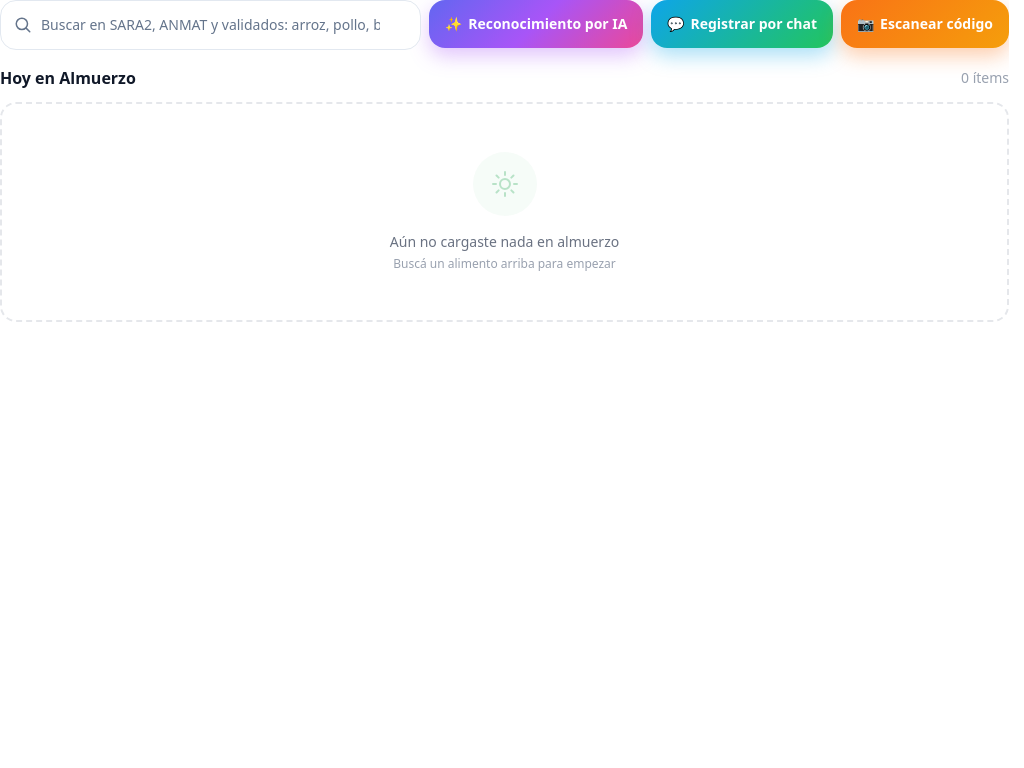
Scenario: Buscador: alimentos VALIDADO (NUT-194) › un deportista elige un VALIDADO (sin macros en el payload) y el selector de cantidad sigue funcionando, sin vista previa
This screenshot has width=1024, height=768.
Step 1. Type "arroz" into the field → (211, 25), box [0,0,421,50]
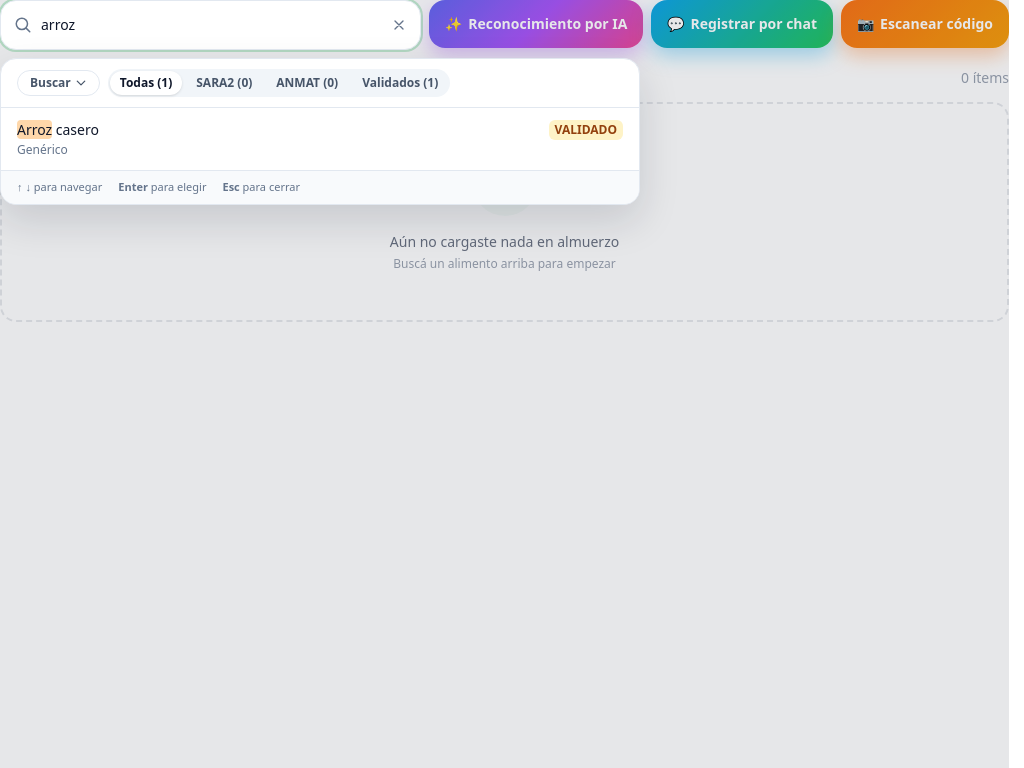
Step 2. Click the element showing "Arroz casero" → (58, 130), box [17,120,99,139]
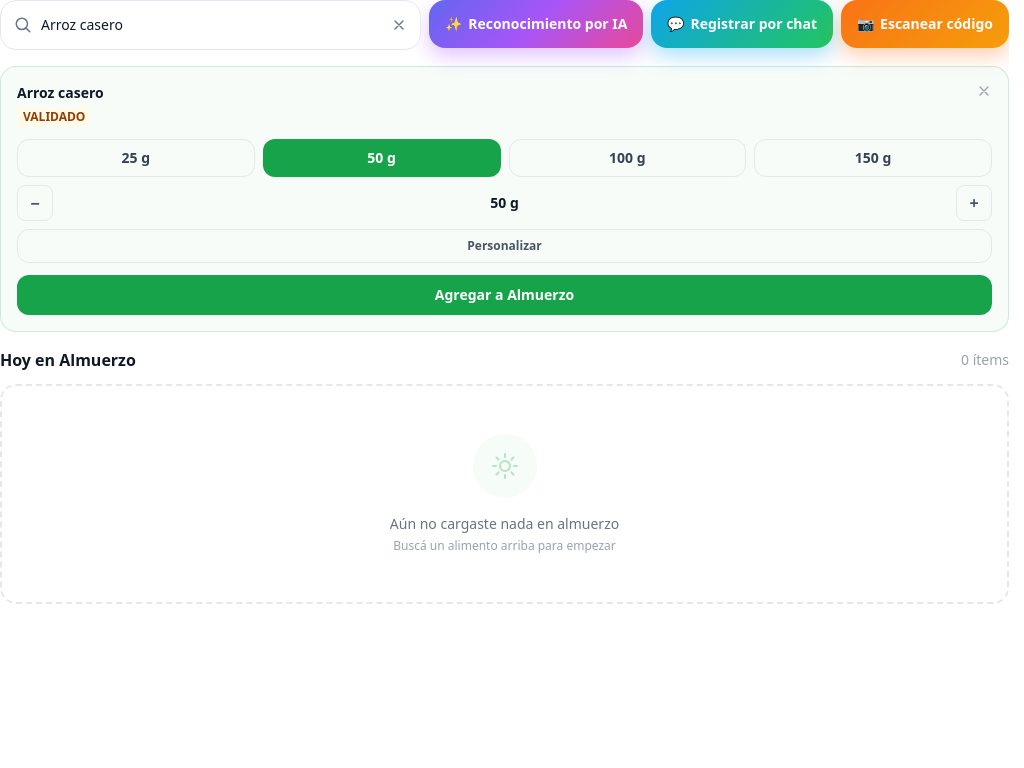
expect the button named "Sumar 10 gramos" is shown: met, box [956,185,992,221]
Step 3. Click the button "100 g" → (627, 158), box [508,139,746,177]
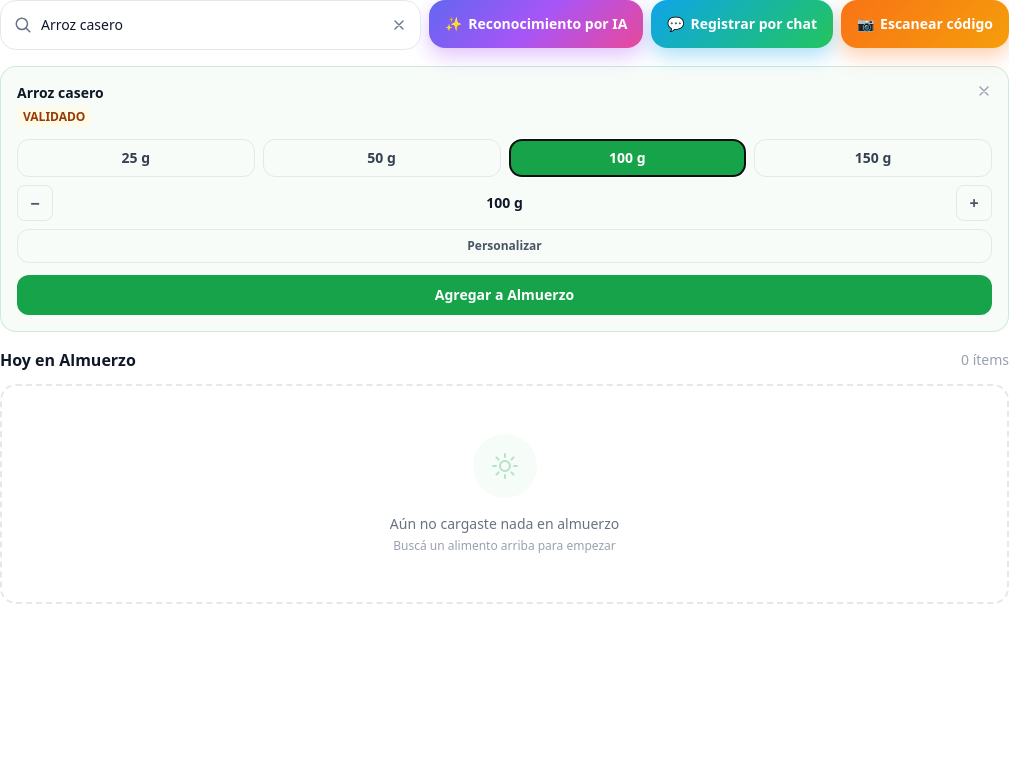
Step 4. Click the button named "Sumar 10 gramos" → (974, 203), box [956,185,992,221]
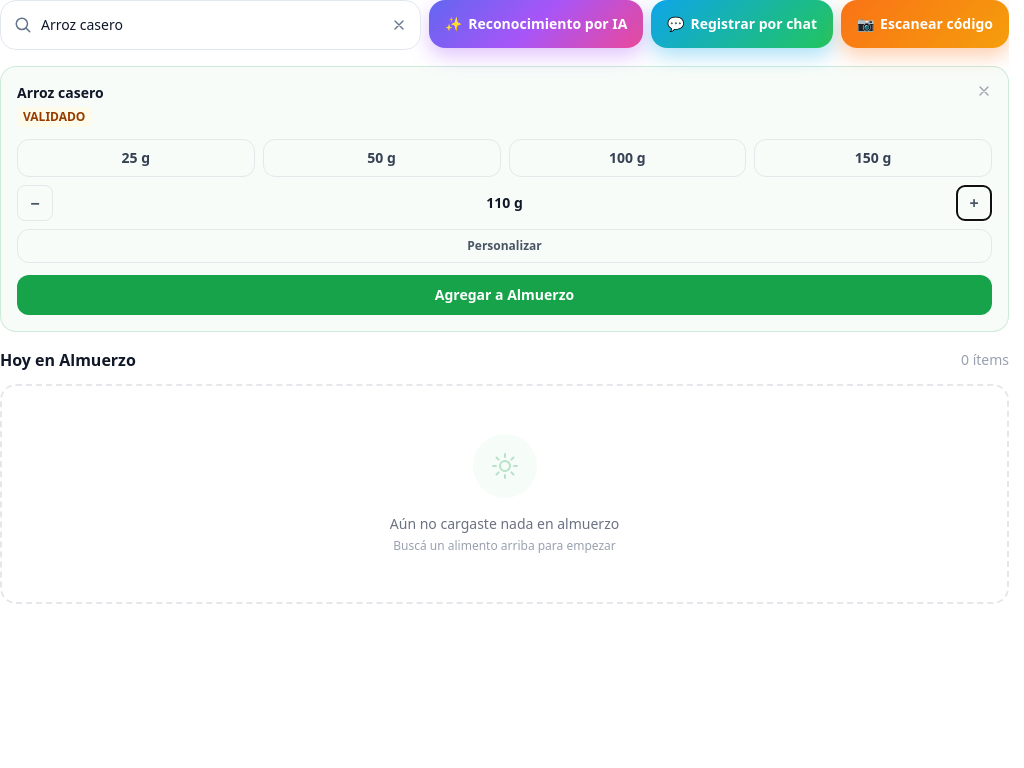
expect the button "Agregar a Almuerzo" is enabled: met, box [17,275,992,315]
expect the text "110 g" is shown: met, box [486,193,523,212]
